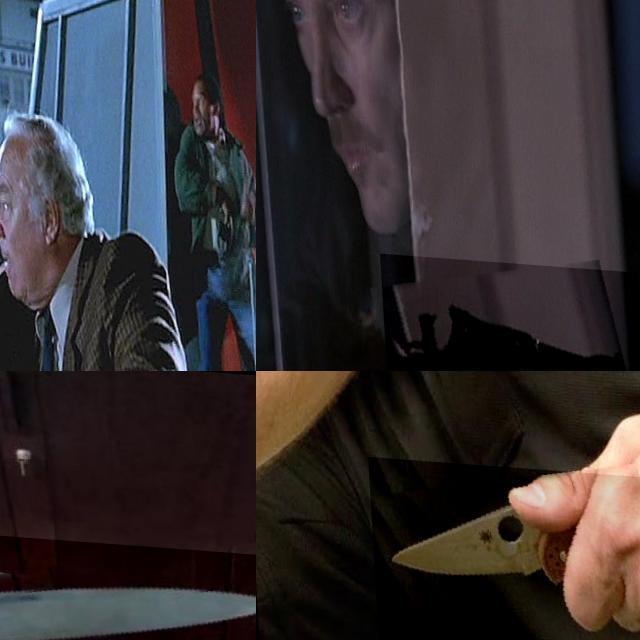-: (365, 454, 640, 640), (0, 525, 256, 640)
gun-knife-thesis - v11 Yolov5 augmented: (375, 249, 640, 371), (0, 128, 48, 275)
